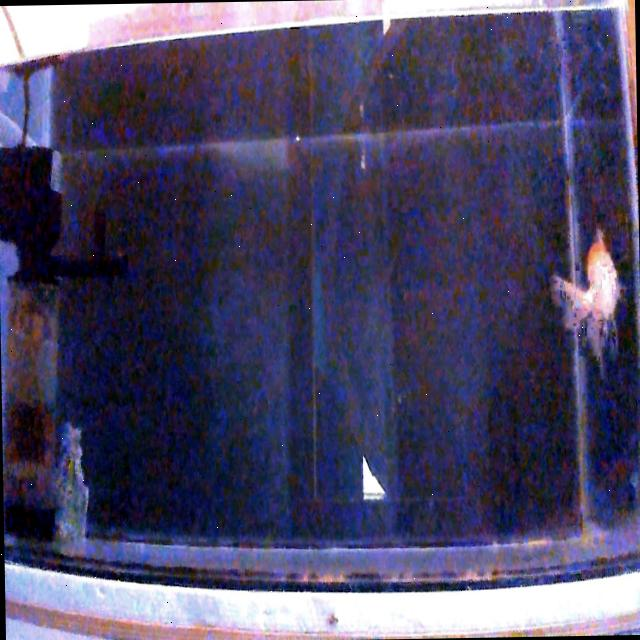fish: (553, 232, 619, 357)
